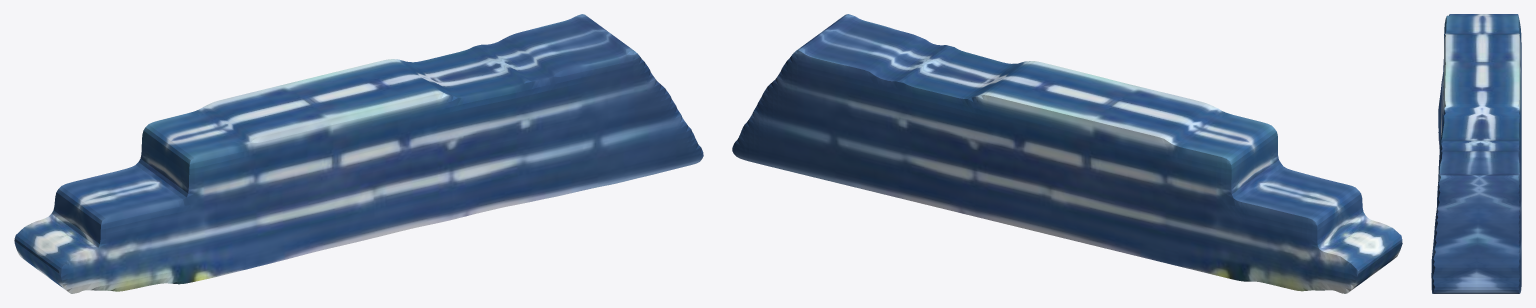
The model's file is gate_stairs.glb.
3 views of the same model, side by side, from view 1: azimuth 30°, elevation 25°; view 2: azimuth 150°, elevation 25°; view 3: azimuth 270°, elevation 25° (orthographic). The views are drawn at different scales.
Visible parts, largest first — view 1: geometry_0; view 2: geometry_0; view 3: geometry_0.
Part boxes in pixels (x1,y1,x2,y2): geometry_0: (14,14,703,293); geometry_0: (732,14,1402,293); geometry_0: (1431,14,1521,293).
Size of the model in its own units: 4.92 by 0.925 by 0.7832.
1 material, 1 textured.
